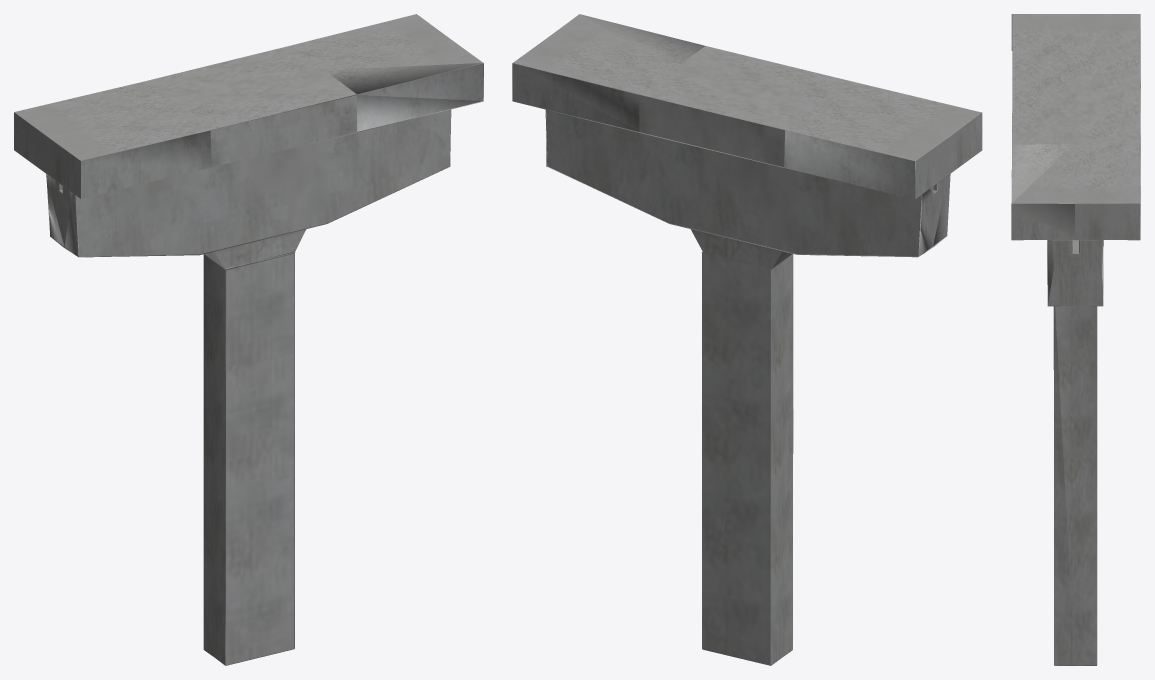
The model's file is pier.glb.
The picture shows the model from 3 angles, left to right: view 1: azimuth 30°, elevation 25°; view 2: azimuth 150°, elevation 25°; view 3: azimuth 270°, elevation 25°; orthographic projection. The views are drawn at different scales.
Parts seen in each view (by area): view 1: Prop_pier; view 2: Prop_pier; view 3: Prop_pier.
Boxes of the visible parts, x1=… form: Prop_pier: x1=14, y1=14, x2=483, y2=665; Prop_pier: x1=512, y1=14, x2=982, y2=665; Prop_pier: x1=1011, y1=14, x2=1140, y2=665.
Size of the model in its own units: 9 by 12 by 2.6.
Materials: 1 (1 with a texture image).
